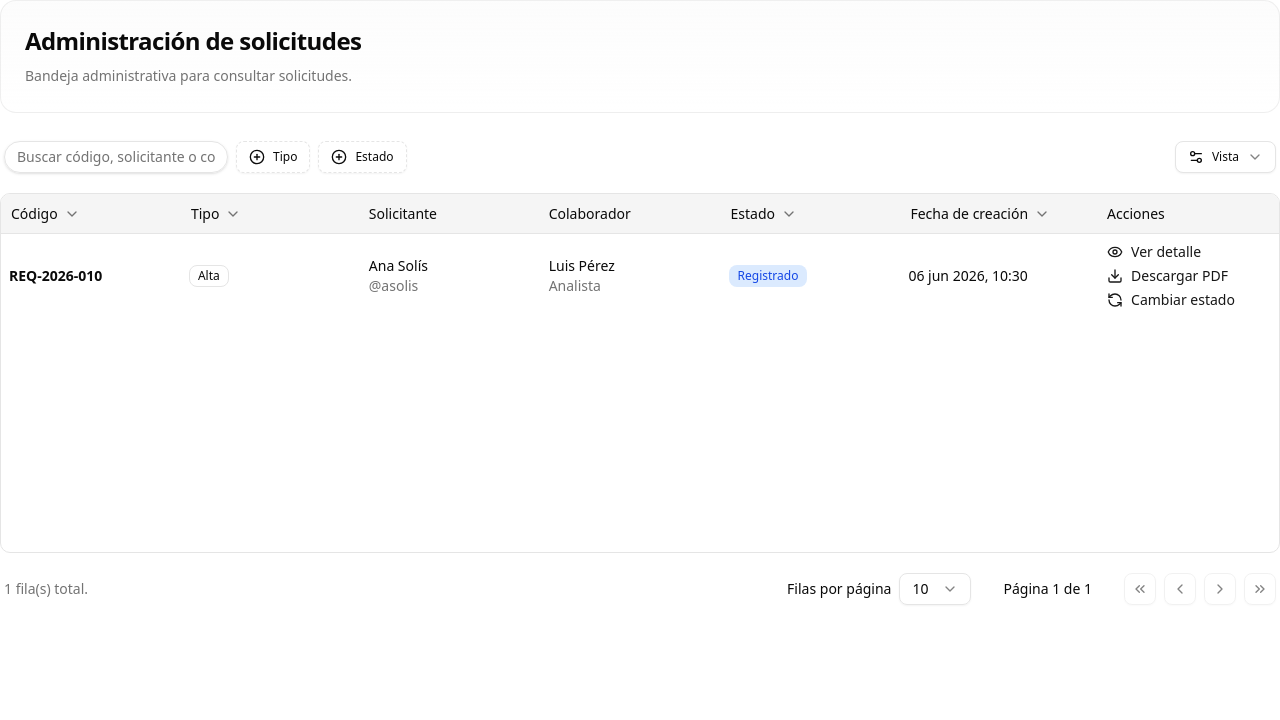
Test: MiAccesoAdministrationPage › abre el modal para cambiar estado y muestra las opciones esperadas
Click the button "Cambiar estado" at (1171, 300), box x1=1107 y1=290 x2=1235 y2=310
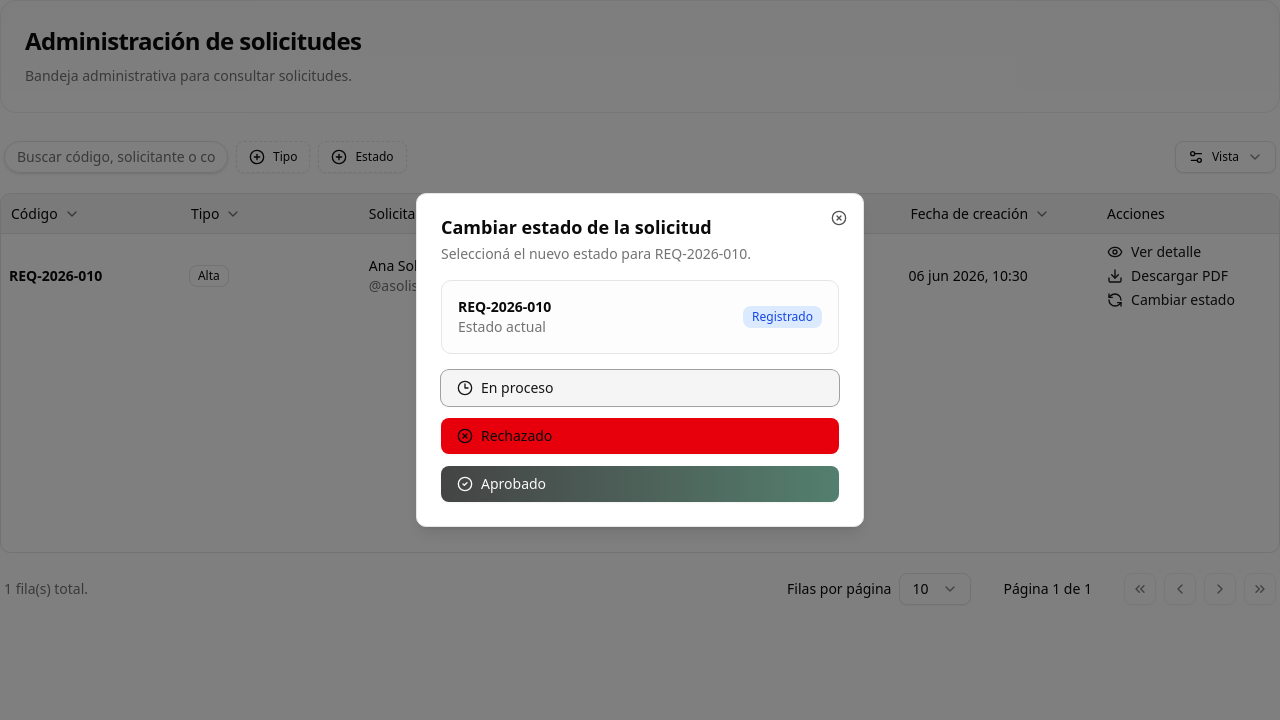
Expected: the dialog is shown, x1=416 y1=193 x2=864 y2=527
Expected: the text "Seleccioná el nuevo estado para REQ-2026-010." is shown, x1=441 y1=244 x2=751 y2=263
Expected: the button "En proceso" is shown, x1=441 y1=370 x2=839 y2=406
